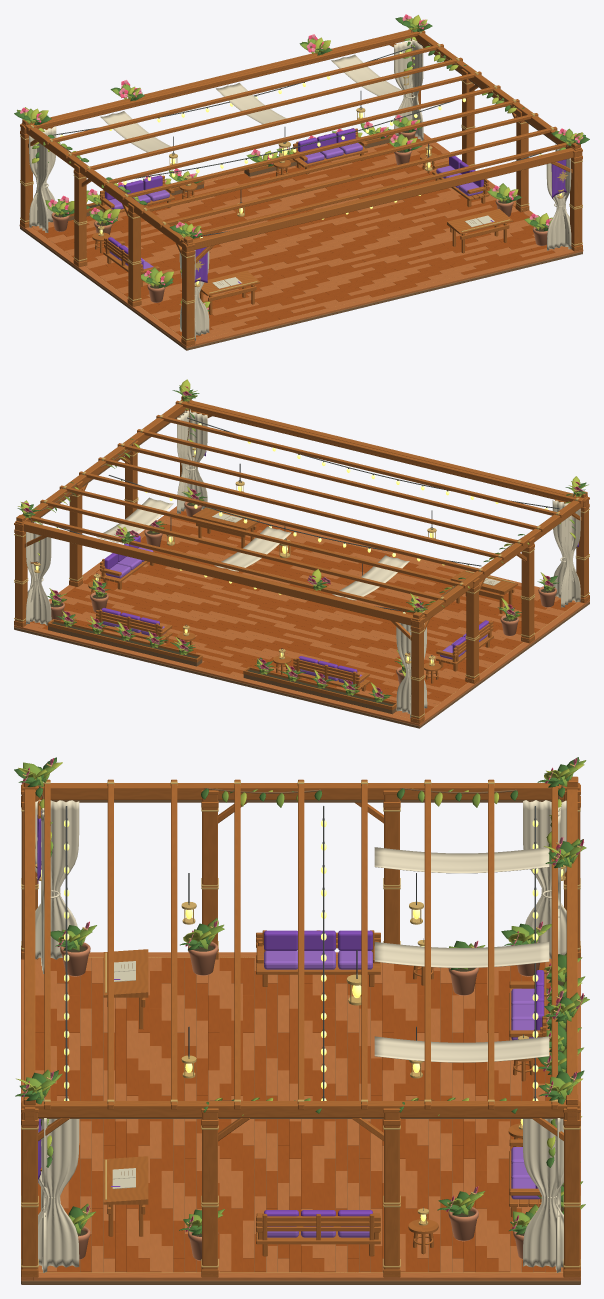
The model's file is dance-pavilion-v1-r2.glb.
3 views of the same model, one above another, from view 1: azimuth 30°, elevation 25°; view 2: azimuth 150°, elevation 25°; view 3: azimuth 270°, elevation 25° (orthographic). The views are drawn at different scales.
Parts seen in each view (by area): view 1: DancePavilion_End_Primary_Beam_7.75, DancePavilion_End_Primary_Beam_-7.75, DancePavilion_Perimeter_Long_Border_7.82, DancePavilion_Open_Pergola_Rafter_04, DancePavilion_Open_Pergola_Rafter_03, DancePavilion_Open_Pergola_Rafter_01, DancePavilion_Open_Pergola_Rafter_02, DancePavilion_Open_Pergola_Rafter_06, DancePavilion_Open_Pergola_Rafter_05, DancePavilion_Open_Pergola_Rafter_07, DancePavilion_Open_Pergola_Rafter_00, DancePavilion_Open_Pergola_Rafter_08 (+24 smaller); view 2: DancePavilion_End_Primary_Beam_-7.75, DancePavilion_End_Primary_Beam_7.75, DancePavilion_Perimeter_Long_Border_-7.82, DancePavilion_Open_Pergola_Rafter_05, DancePavilion_Open_Pergola_Rafter_03, DancePavilion_Open_Pergola_Rafter_04, DancePavilion_Open_Pergola_Rafter_02, DancePavilion_Open_Pergola_Rafter_08, DancePavilion_Open_Pergola_Rafter_06, DancePavilion_Open_Pergola_Rafter_07, DancePavilion_Open_Pergola_Rafter_01, DancePavilion_Open_Pergola_Rafter_00 (+28 smaller); view 3: DancePavilion_Side_Primary_Beam_1, DancePavilion_Side_Primary_Beam_-1, DancePavilion_Deck_Structure, DancePavilion_Perimeter_End_Border_10.82, DancePavilion_Tied_Curtain_1_-1_side, DancePavilion_Tied_Curtain_1_1_side, DancePavilion_End_Primary_Beam_7.75, DancePavilion_Tied_Curtain_-1_1_side, DancePavilion_Sparse_Rear_Sail_2, DancePavilion_Sparse_Rear_Sail_0, DancePavilion_Sparse_Rear_Sail_1, DancePavilion_End_Primary_Beam_-7.75 (+30 smaller).
Boxes of the visible parts, box(x1,y1,x2,y2) form: DancePavilion_End_Primary_Beam_7.75: box(182, 147, 581, 251); DancePavilion_End_Primary_Beam_-7.75: box(21, 29, 412, 133); DancePavilion_Perimeter_Long_Border_7.82: box(182, 249, 583, 347); DancePavilion_Open_Pergola_Rafter_04: box(102, 85, 500, 185); DancePavilion_Open_Pergola_Rafter_03: box(83, 71, 481, 172); DancePavilion_Open_Pergola_Rafter_01: box(45, 44, 443, 144); DancePavilion_Open_Pergola_Rafter_02: box(64, 57, 462, 158); DancePavilion_Open_Pergola_Rafter_06: box(140, 113, 538, 213); DancePavilion_Open_Pergola_Rafter_05: box(121, 99, 519, 199); DancePavilion_Open_Pergola_Rafter_07: box(159, 126, 557, 227); DancePavilion_Open_Pergola_Rafter_00: box(27, 30, 425, 130); DancePavilion_Open_Pergola_Rafter_08: box(178, 142, 569, 241); DancePavilion_End_Primary_Beam_-7.75: box(15, 521, 423, 627); DancePavilion_End_Primary_Beam_7.75: box(180, 400, 588, 506); DancePavilion_Perimeter_Long_Border_-7.82: box(14, 625, 423, 725); DancePavilion_Open_Pergola_Rafter_05: box(117, 443, 524, 546); DancePavilion_Open_Pergola_Rafter_03: box(79, 471, 486, 574); DancePavilion_Open_Pergola_Rafter_04: box(98, 457, 505, 560); DancePavilion_Open_Pergola_Rafter_02: box(59, 485, 466, 588); DancePavilion_Open_Pergola_Rafter_08: box(175, 400, 582, 503); DancePavilion_Open_Pergola_Rafter_06: box(137, 429, 544, 531); DancePavilion_Open_Pergola_Rafter_07: box(156, 415, 563, 517); DancePavilion_Open_Pergola_Rafter_01: box(40, 499, 447, 602); DancePavilion_Open_Pergola_Rafter_00: box(21, 514, 428, 616); DancePavilion_Side_Primary_Beam_1: box(22, 1101, 579, 1117); DancePavilion_Side_Primary_Beam_-1: box(22, 783, 579, 799); DancePavilion_Deck_Structure: box(21, 961, 580, 1284); DancePavilion_Perimeter_End_Border_10.82: box(33, 1272, 568, 1280); DancePavilion_Tied_Curtain_1_-1_side: box(523, 1119, 563, 1267); DancePavilion_Tied_Curtain_1_1_side: box(38, 1119, 79, 1267); DancePavilion_End_Primary_Beam_7.75: box(24, 789, 35, 1120); DancePavilion_Tied_Curtain_-1_1_side: box(35, 800, 79, 959); DancePavilion_Sparse_Rear_Sail_2: box(374, 1036, 549, 1062); DancePavilion_Sparse_Rear_Sail_0: box(374, 847, 549, 873); DancePavilion_Sparse_Rear_Sail_1: box(374, 942, 549, 967); DancePavilion_End_Primary_Beam_-7.75: box(566, 789, 577, 1120).
Bounding box in the file's own units: 22.77 × 6.48 × 16.46.
Materials: 18 (4 with a texture image).
